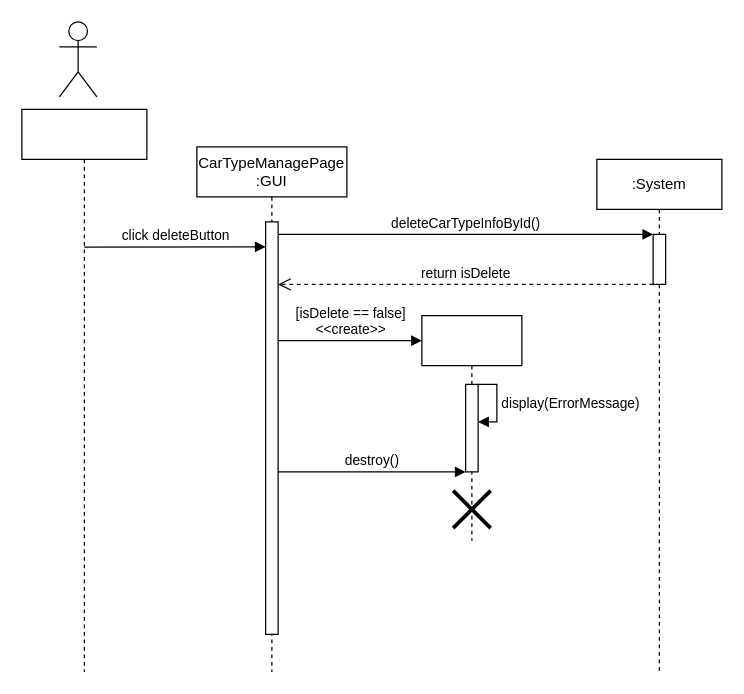
This 744x694 diagram has some shape labels left out. Here are the shapes that lost their labels. From the top down, the box of each, then its label:
(21, 108, 147, 672): User
(421, 314, 522, 541): SystemError :GUI
